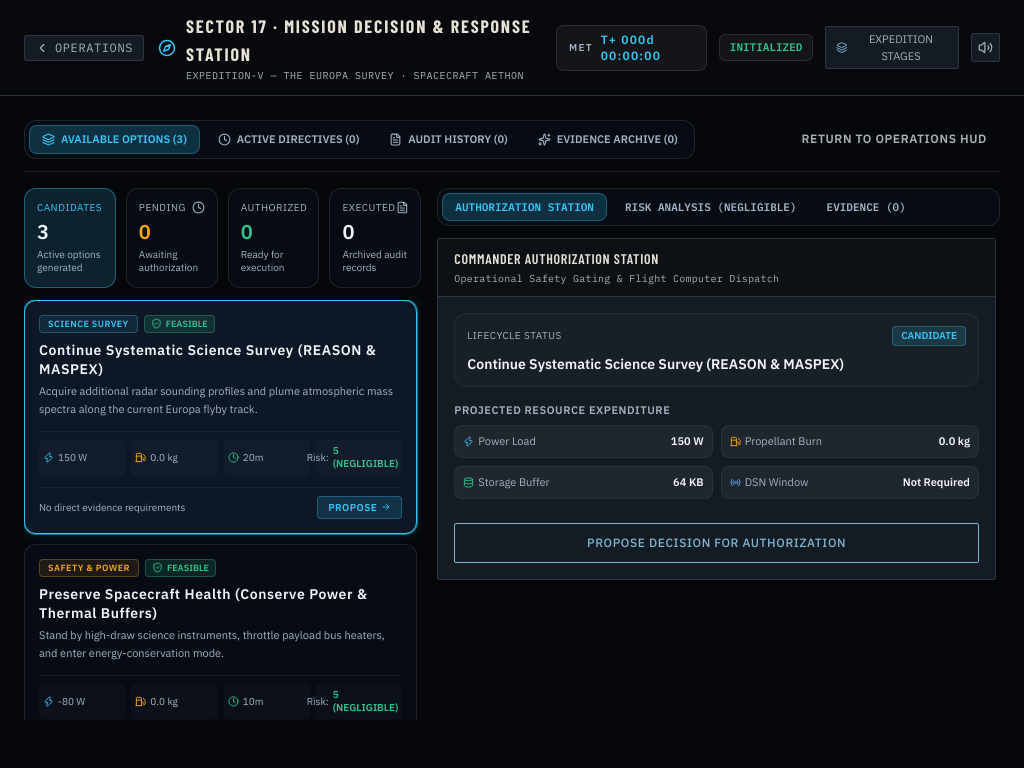
Phase 6.3 Mission Decision Interface Integration › 1. Initial Decision Rendering › shows empty states appropriately when switching to Active Directives with zero pending
The image size is (1024, 768).
Note: Switch to Active Directives tab
Step 1. Click the button "Active Directives (0)" → (289, 139), box 206,126 -> 371,153
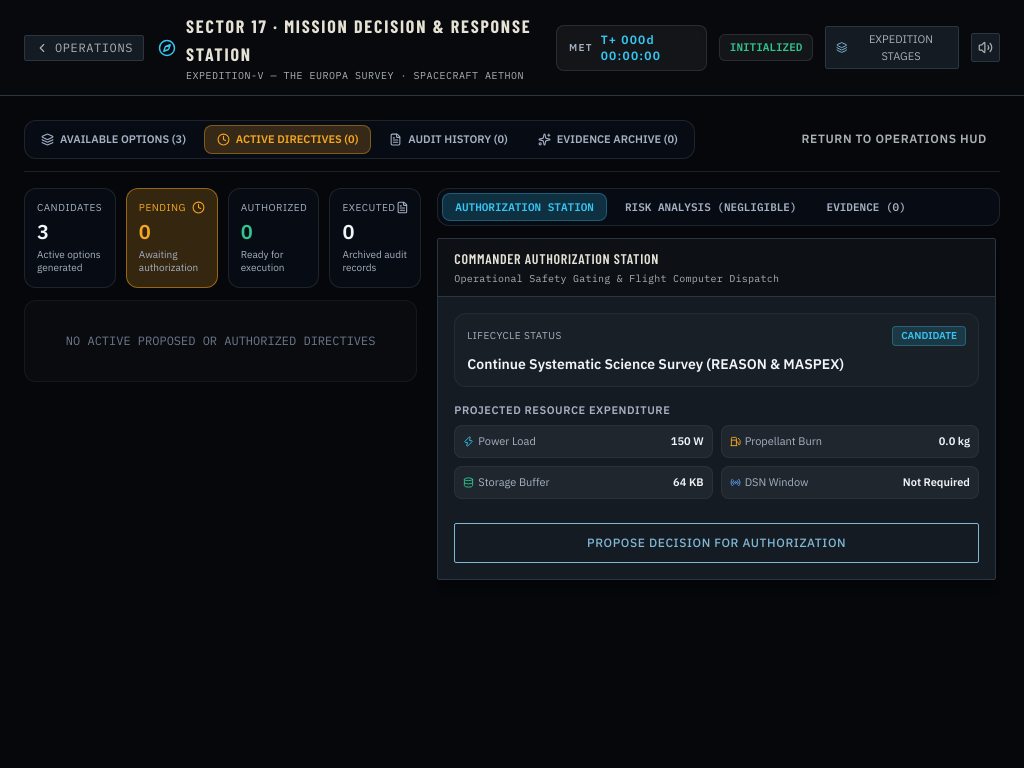
Check: the text "NO ACTIVE PROPOSED OR AUTHORIZED DIRECTIVES" is shown, box 24,300 -> 417,382
